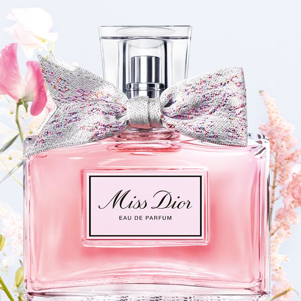dior_miss_dior: (18, 18, 272, 299)
